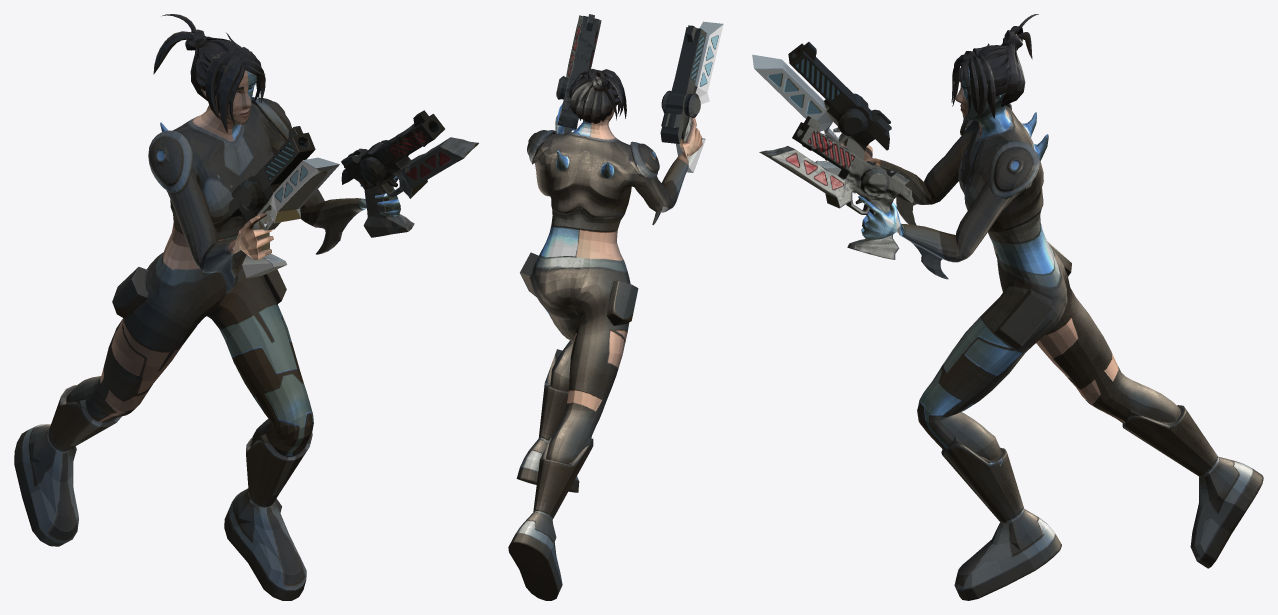
3 views of the same model, side by side, from view 1: azimuth 30°, elevation 25°; view 2: azimuth 150°, elevation 25°; view 3: azimuth 270°, elevation 25° (orthographic). The views are drawn at different scales.
Parts seen in each view (by area): view 1: Dex_LOW_Plane.001; view 2: Dex_LOW_Plane.001; view 3: Dex_LOW_Plane.001.
Part boxes in pixels (bbox=[...]): Dex_LOW_Plane.001: bbox=[14, 14, 478, 600]; Dex_LOW_Plane.001: bbox=[508, 14, 723, 600]; Dex_LOW_Plane.001: bbox=[752, 14, 1263, 600].
Bounding box in the file's own units: 1.8 × 4.76 × 3.94.
